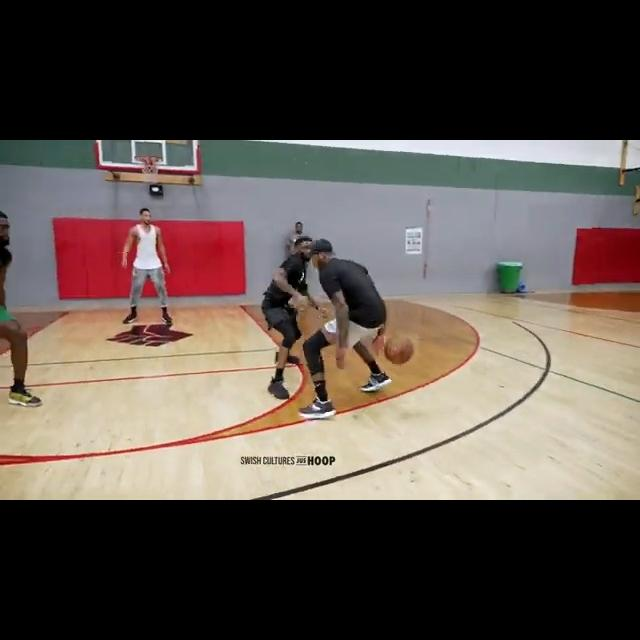basketball: (384, 336, 415, 366)
person: (298, 241, 394, 420), (260, 236, 329, 400), (0, 212, 44, 406), (121, 207, 178, 328), (289, 221, 307, 297)
